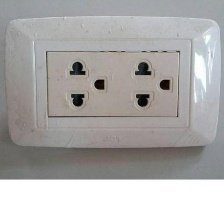three_eye_plug: (2, 14, 223, 153)
